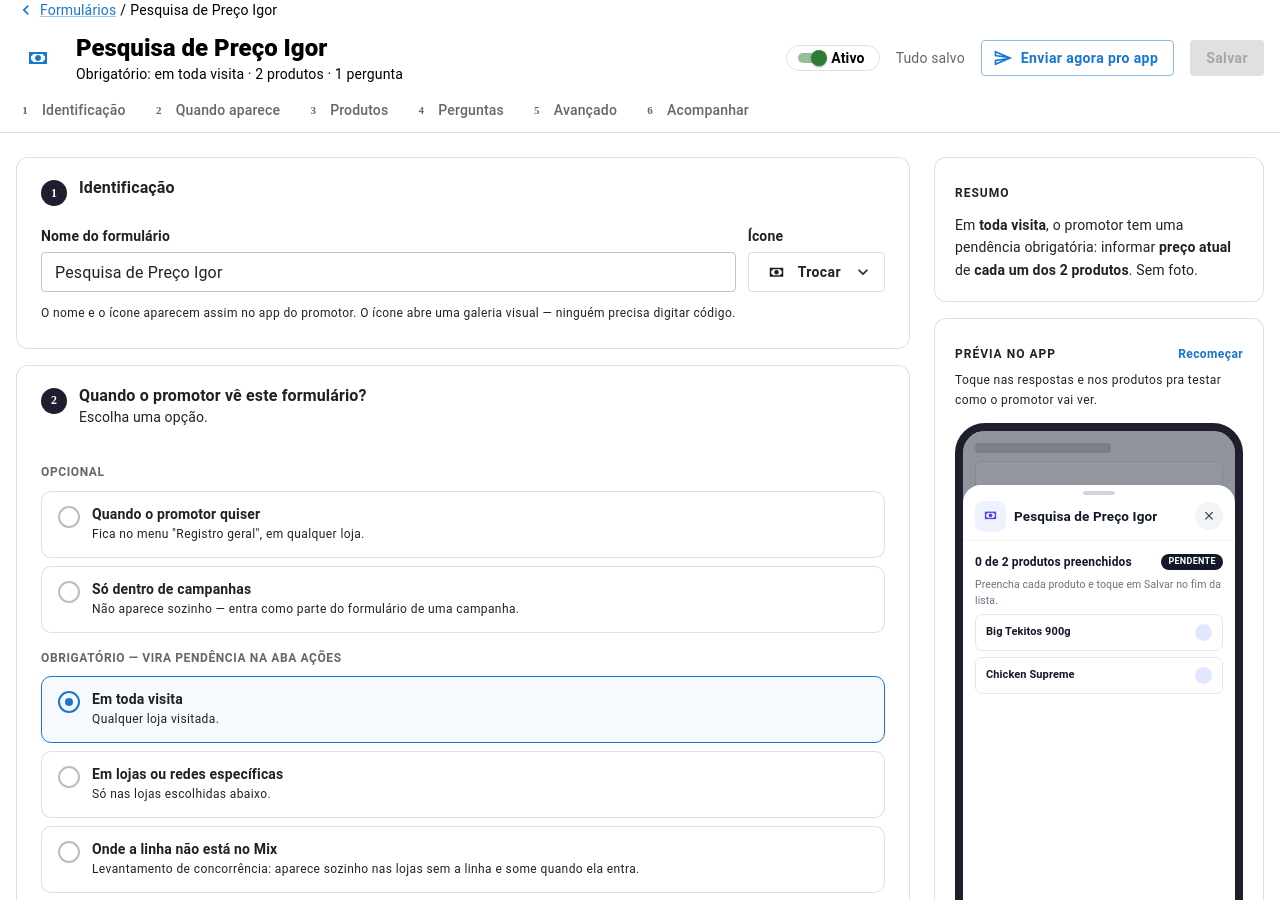
Test: TipoRegistroFormPage (editor de formulário) › prévia imita o app: lista guiada de produtos, abre o produto e marca como preenchido
This screenshot has width=1280, height=900.
Expected: the text "Tudo salvo" is shown, [896,48,965,68]
Expected: the text "0 de 2 produtos preenchidos" is shown, [975,553,1132,571]
Click the button "Chicken Supreme" at (1099, 675), box [975,657,1223,694]
(page scrolled)
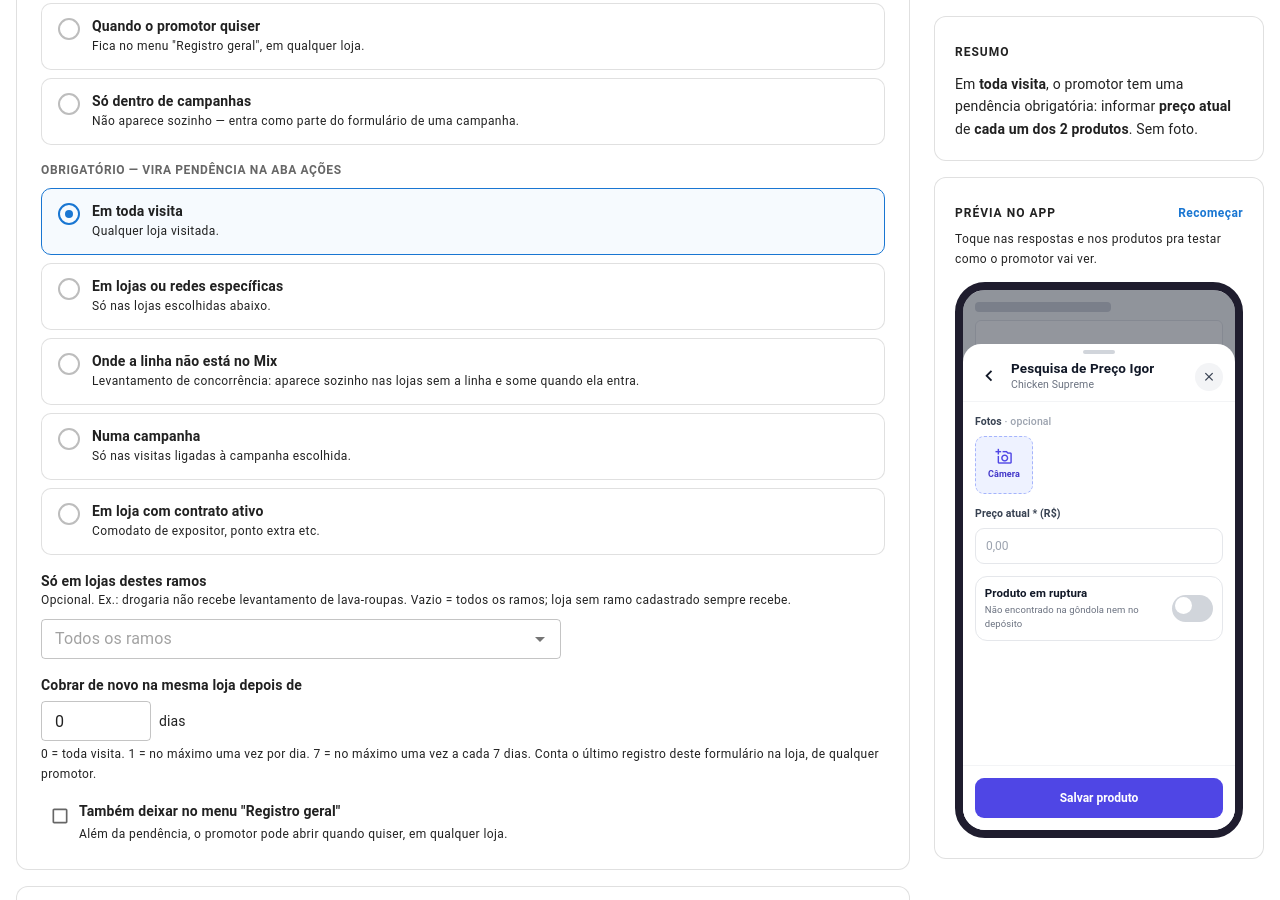
Result: the text "Preço atual * (R$)" is shown at [975,507,1061,520]
Result: the field with placeholder "0,00" is shown at [975,528,1223,564]
Click the button "Salvar produto" at (1099, 798), box [975,778,1223,818]
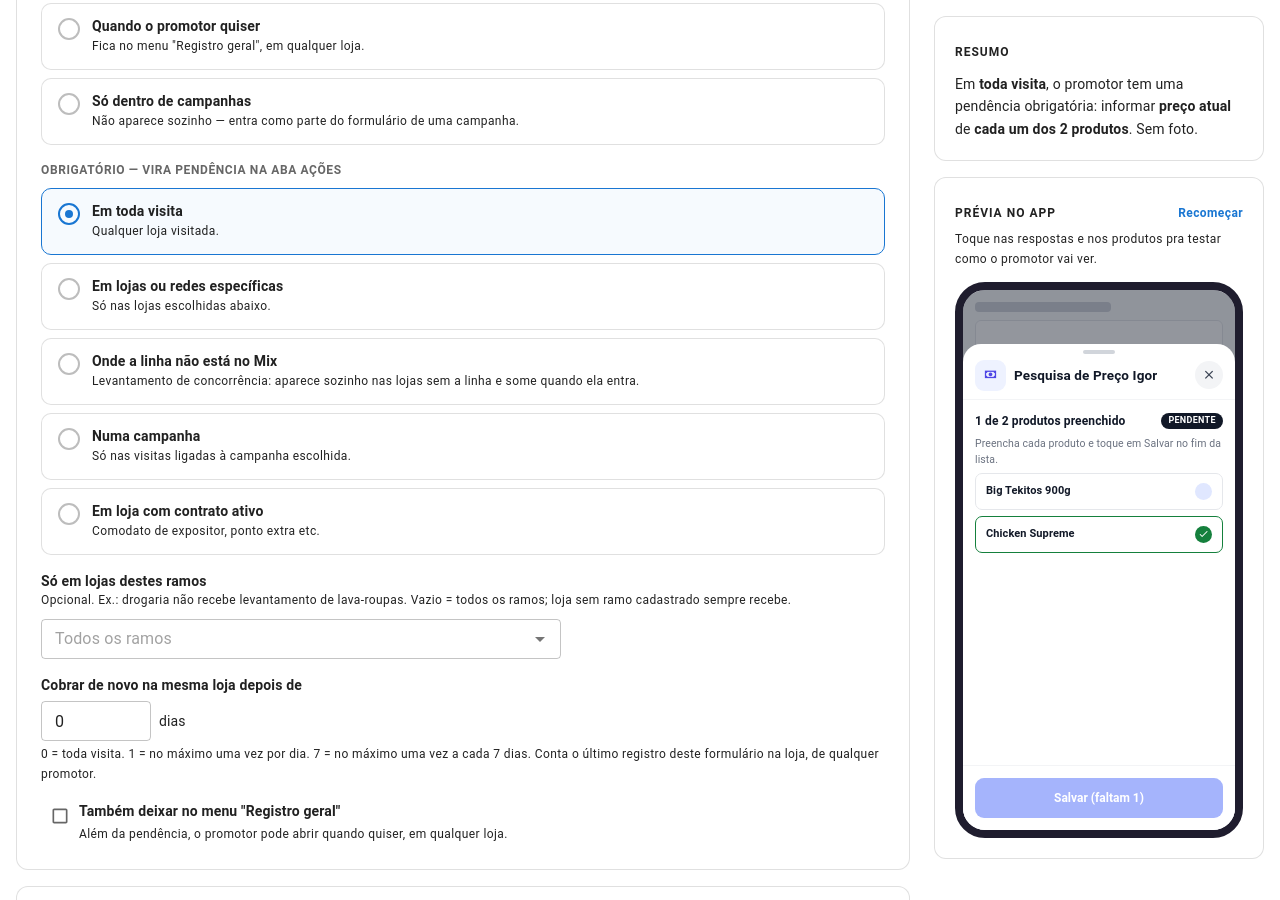
Result: the text "1 de 2 produtos preenchido" is shown at [975,412,1125,430]
Result: the button "Salvar (faltam 1)" is shown at [975,778,1223,818]
